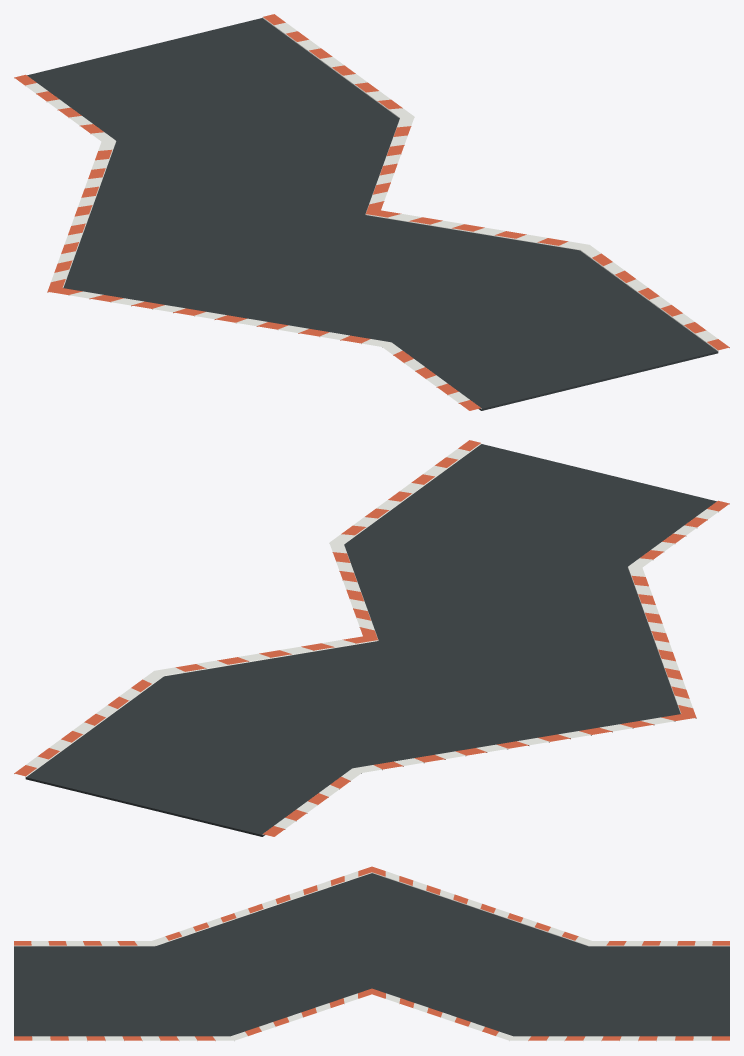
Rendered from chicane.glb.
3 views of the same model, one above another, from view 1: azimuth 30°, elevation 25°; view 2: azimuth 150°, elevation 25°; view 3: azimuth 270°, elevation 25° (orthographic). The views are drawn at different scales.
Visible parts, largest first — view 1: chicane-left-right; view 2: chicane-left-right; view 3: chicane-left-right.
Boxes of the visible parts, <box> form: chicane-left-right: <box>14,14,729,410</box>; chicane-left-right: <box>14,440,729,836</box>; chicane-left-right: <box>14,866,729,1041</box>.
Bounding box in the file's own units: 23.05 × 0.1434 × 40.
